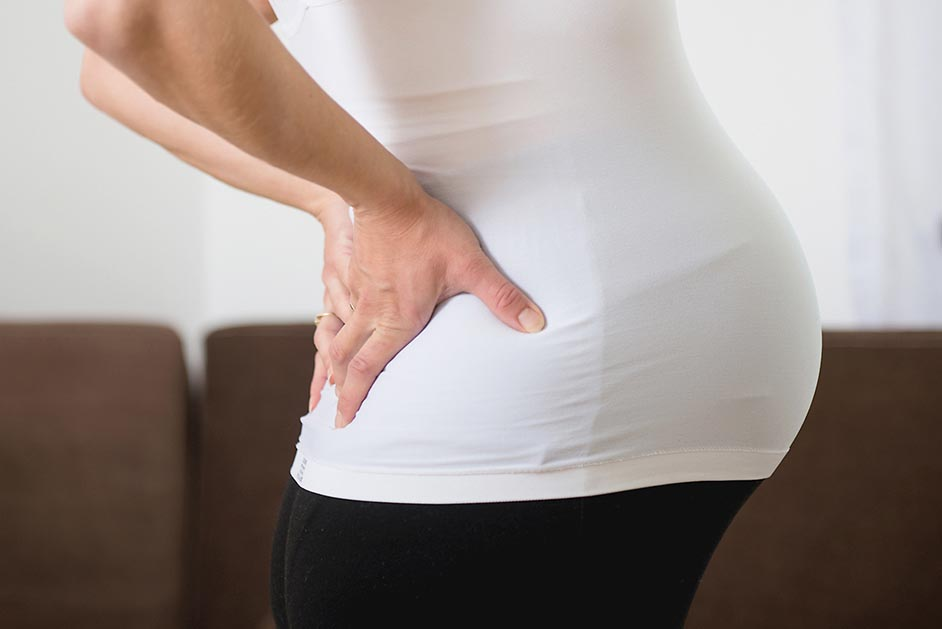Humano: (54, 1, 844, 628)
